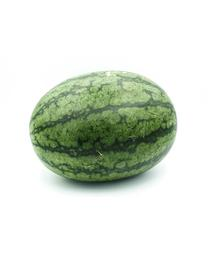watermelon: (25, 70, 183, 184)
